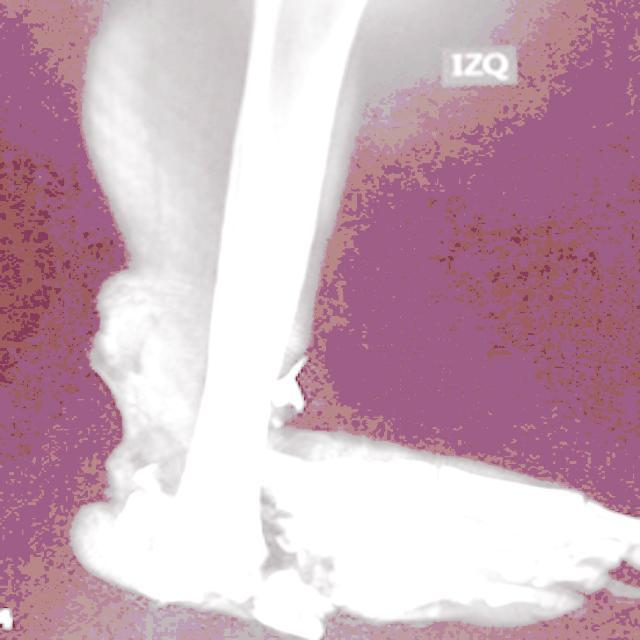Comminuted Fracture: (74, 426, 351, 640)
